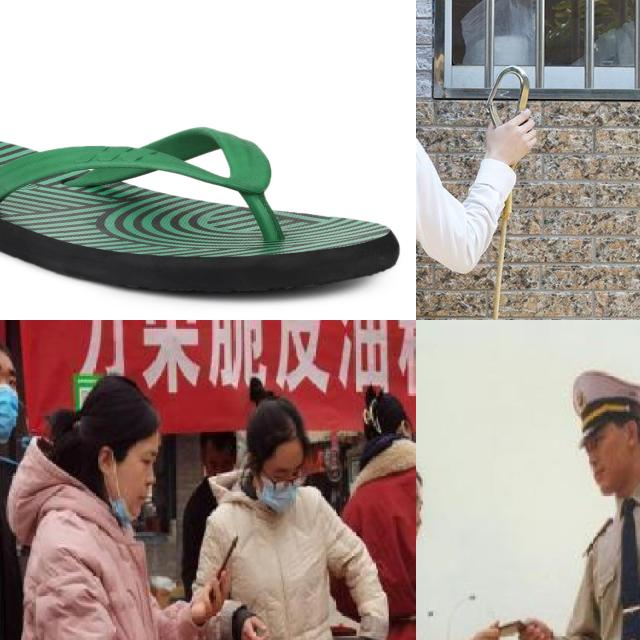Sandals: (0, 124, 402, 296)
face_mask: (260, 448, 301, 516)
face_nomask: (101, 437, 175, 521), (587, 422, 626, 497)
glasses: (271, 470, 307, 498)
hand_noglove: (192, 569, 227, 627), (516, 611, 550, 640), (462, 618, 501, 640), (238, 615, 267, 640)
head_nohelmet: (75, 375, 160, 446), (565, 372, 640, 435), (252, 391, 310, 456), (416, 453, 430, 494)
person: (4, 372, 184, 640), (198, 384, 385, 640), (530, 376, 640, 640), (317, 387, 416, 640), (416, 446, 498, 640)
